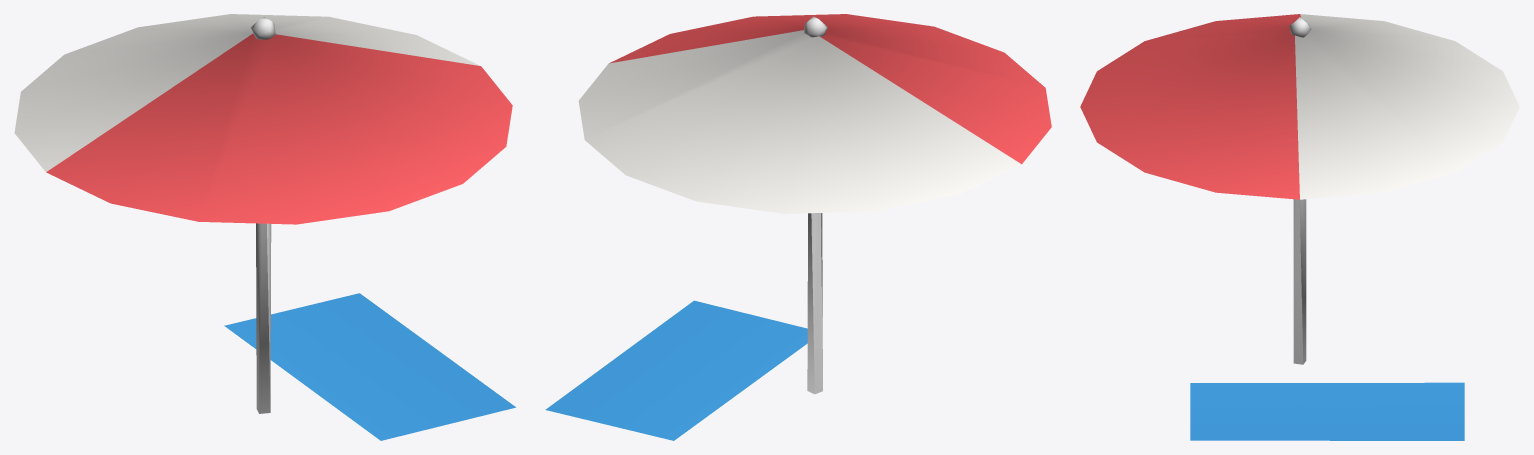
Rendered from umbrella_lod.glb.
3 views of the same model, side by side, from view 1: azimuth 30°, elevation 25°; view 2: azimuth 150°, elevation 25°; view 3: azimuth 270°, elevation 25° (orthographic). The views are drawn at different scales.
Parts seen in each view (by area): view 1: umbrella_lod; view 2: umbrella_lod; view 3: umbrella_lod.
Boxes of the visible parts, x1=… form: umbrella_lod: x1=14, y1=14, x2=515, y2=440; umbrella_lod: x1=545, y1=14, x2=1051, y2=440; umbrella_lod: x1=1080, y1=14, x2=1519, y2=440.
Bounding box in the file's own units: 3.2 × 2.76 × 3.2.
